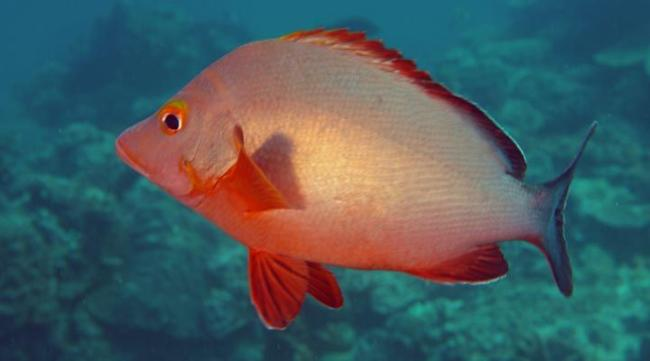fish: (114, 27, 601, 331)
